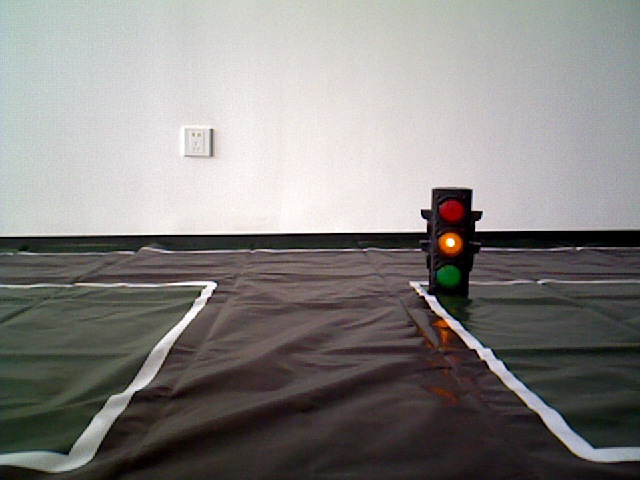yellow: (430, 186, 476, 298)
